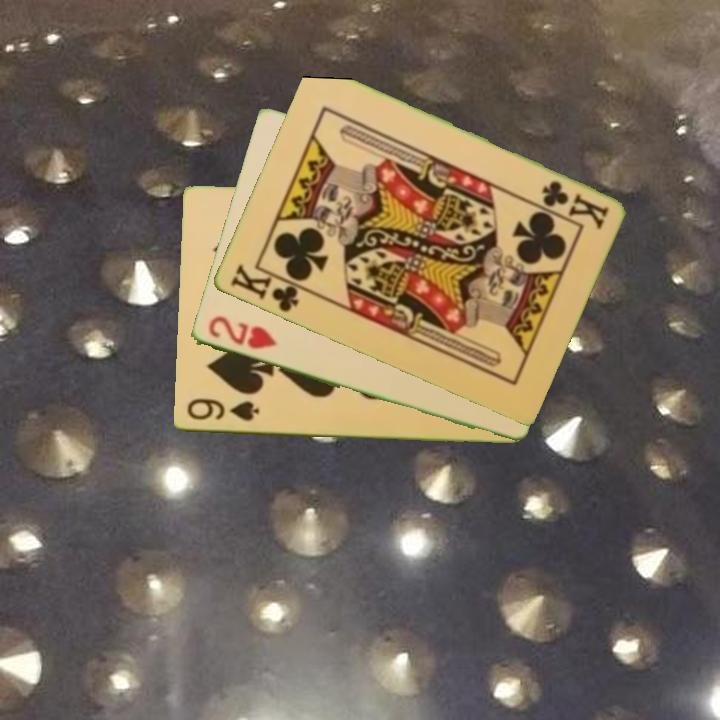2h: (204, 312, 280, 352)
9s: (183, 395, 262, 424)
Kc: (226, 261, 310, 315), (538, 177, 612, 230)
